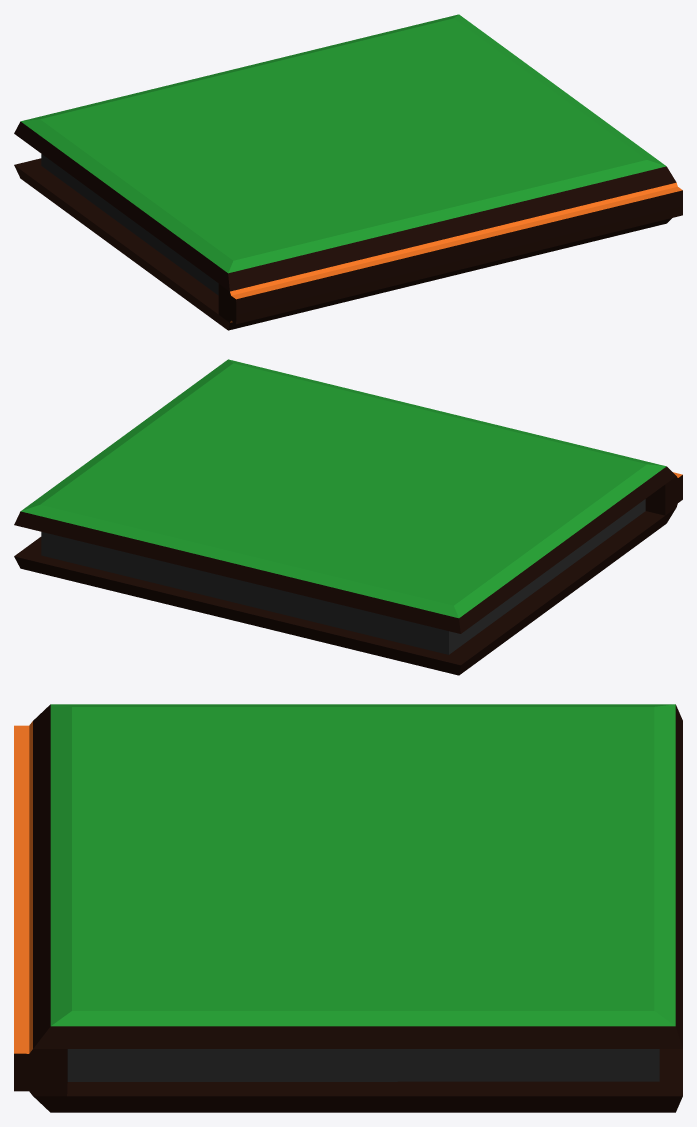
File: bookdeco 1.fbx
The picture shows the model from 3 angles, top to bottom: view 1: azimuth 30°, elevation 25°; view 2: azimuth 150°, elevation 25°; view 3: azimuth 270°, elevation 25°; orthographic projection. The views are drawn at different scales.
Parts seen in each view (by area): view 1: Page002, Page1; view 2: Page002, Page1; view 3: Page002, Page1.
Boxes of the visible parts, left/top/right/bottom form: Page002: left=14, top=14, right=682, bottom=311; Page1: left=14, top=154, right=682, bottom=330; Page002: left=14, top=359, right=682, bottom=639; Page1: left=14, top=487, right=682, bottom=675; Page002: left=14, top=704, right=682, bottom=1072; Page1: left=14, top=1049, right=682, bottom=1112.
Bounding box in the file's own units: 713 × 101 × 614.
